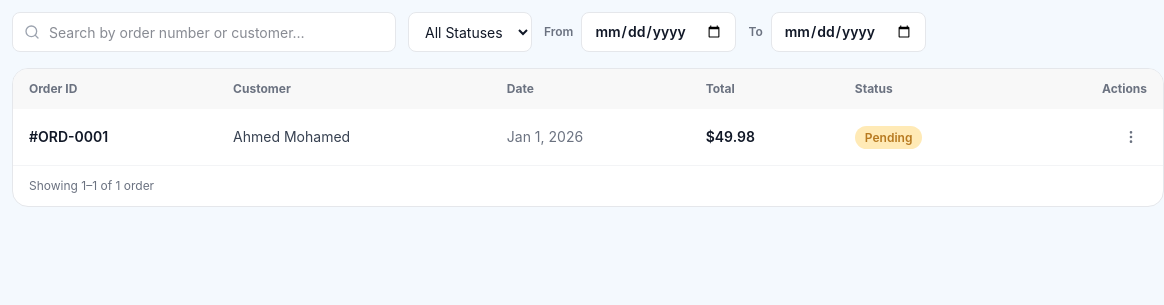
Test: OrdersList › staff scope shows staff filters and STAFF gets confirm + cancel on PENDING
This screenshot has width=1164, height=305.
expect the search field named "Search orders" is shown: met, box x1=12 y1=12 x2=396 y2=52
expect the column heading "Customer" is shown: met, box x1=217 y1=69 x2=491 y2=109
Step 1. Click the button named "Actions for #ORD-0001" → (1131, 137), box x1=1115 y1=121 x2=1147 y2=153
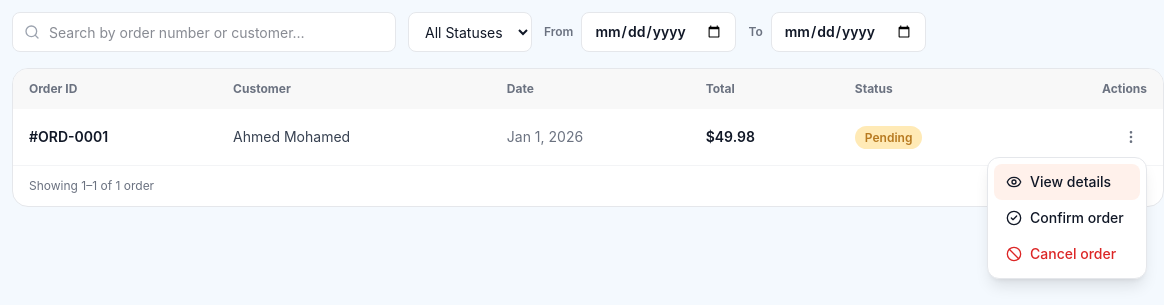
expect the menu item "Confirm order" is shown: met, box x1=994 y1=200 x2=1140 y2=236
expect the menu item "Cancel order" is shown: met, box x1=994 y1=236 x2=1140 y2=272
